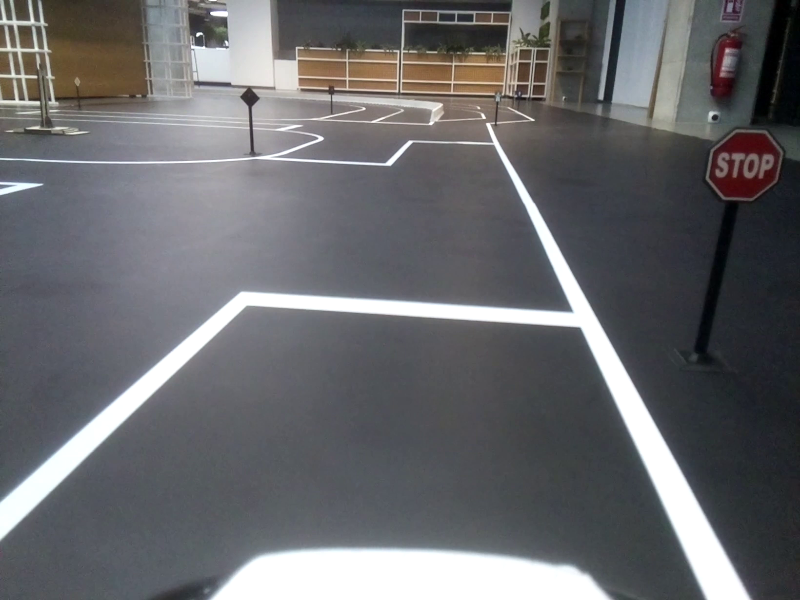stop: (705, 132, 781, 202)
